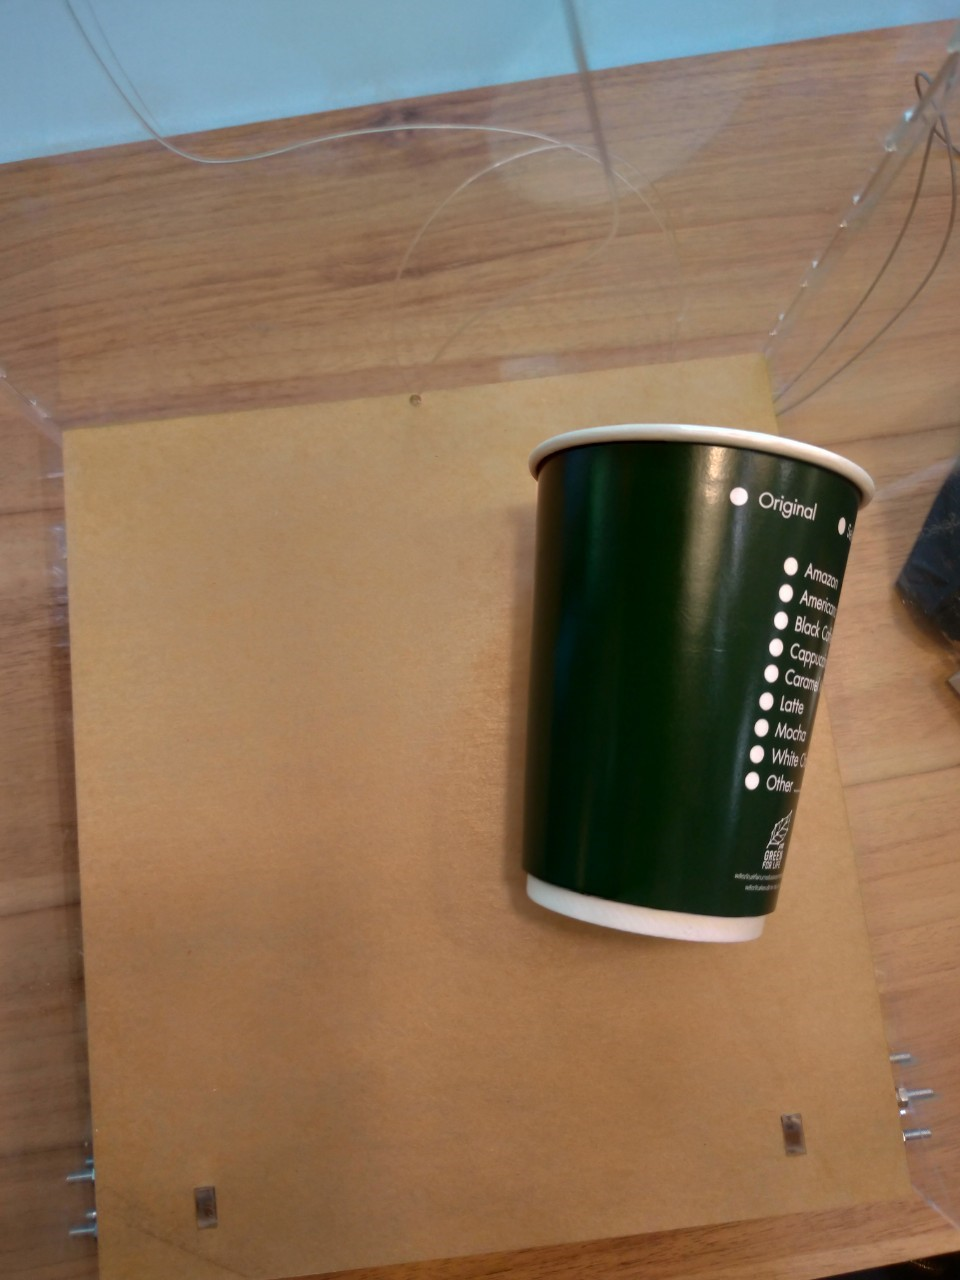PaperCup: (516, 421, 875, 943)
